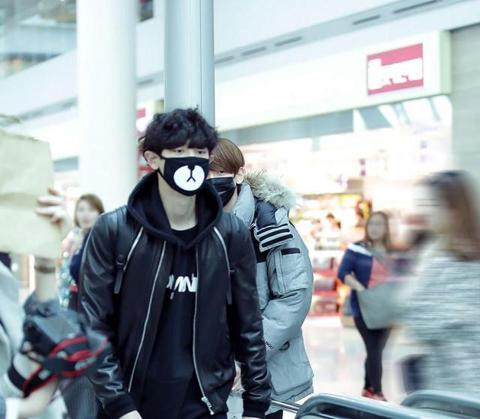NONE: (73, 202, 100, 229), (367, 218, 387, 238)
OK: (159, 138, 216, 195), (197, 161, 239, 207)
